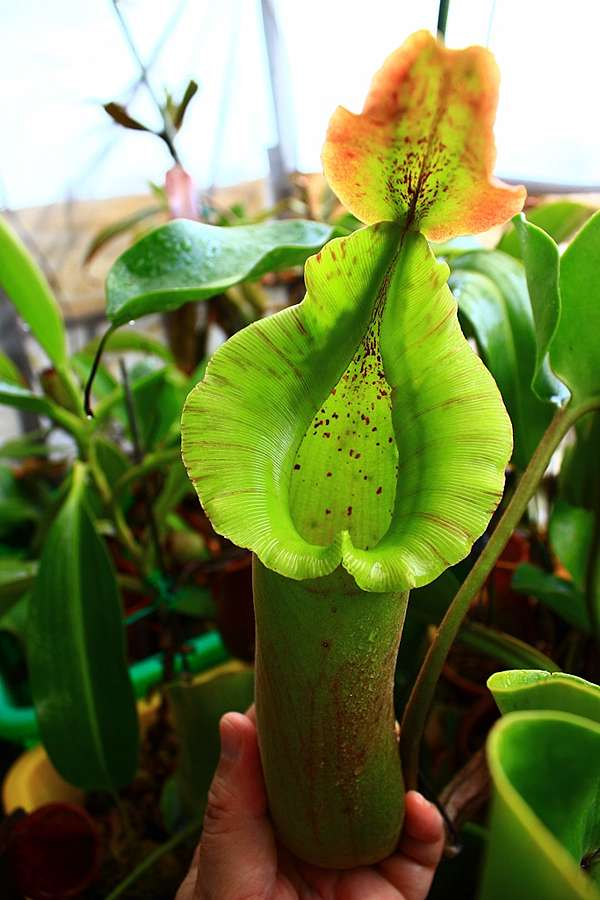truncata: (109, 2, 539, 884)
